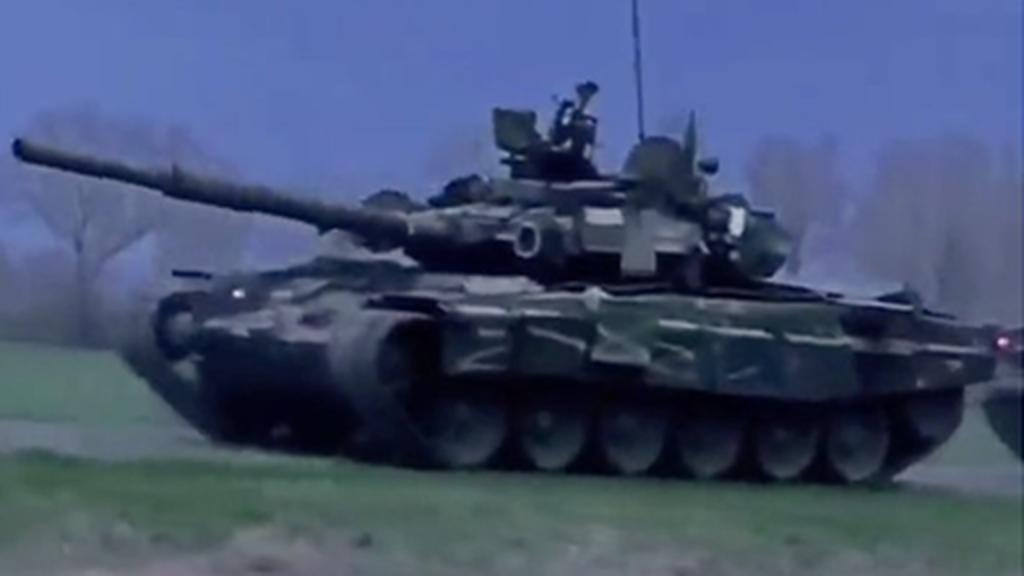TANK: (6, 96, 998, 510)
